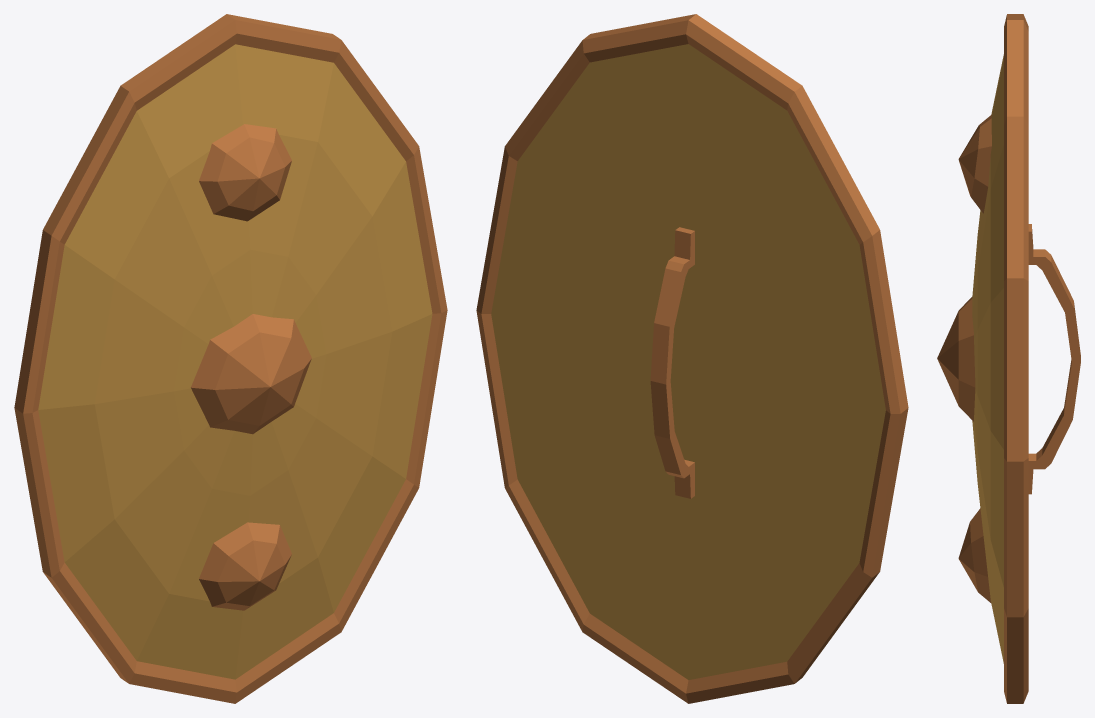
File: SM_pwe_persia_shield_04.fbx
3 views of the same model, side by side, from view 1: azimuth 30°, elevation 25°; view 2: azimuth 150°, elevation 25°; view 3: azimuth 270°, elevation 25° (orthographic).
Visible parts, largest first — view 1: SM_pwe_persia_shield_04; view 2: SM_pwe_persia_shield_04; view 3: SM_pwe_persia_shield_04.
Part boxes in pixels (x1=…): SM_pwe_persia_shield_04: x1=14, y1=14, x2=447, y2=703; SM_pwe_persia_shield_04: x1=476, y1=14, x2=908, y2=703; SM_pwe_persia_shield_04: x1=937, y1=14, x2=1080, y2=703.
Bounding box in the file's own units: 58.78 × 90.43 × 17.38.
